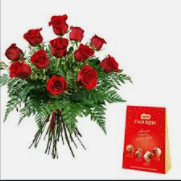RedRose: (45, 10, 69, 36), (45, 74, 70, 97), (79, 66, 100, 91), (9, 61, 34, 82), (31, 48, 53, 71), (3, 39, 25, 61), (21, 26, 44, 46), (51, 35, 68, 61), (71, 45, 94, 62), (100, 53, 118, 74), (68, 22, 85, 44), (91, 33, 105, 52)
